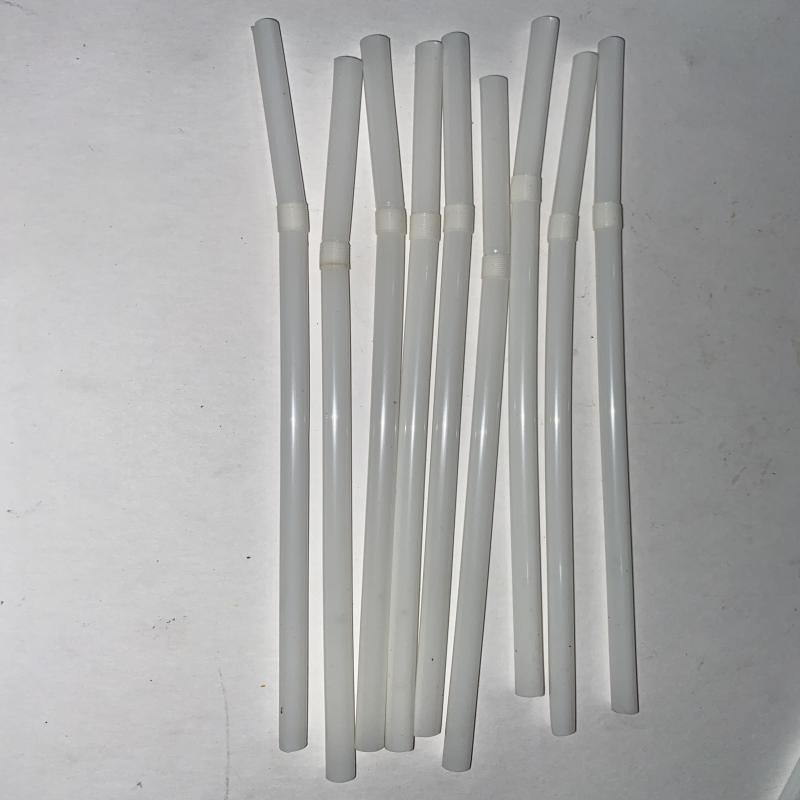plastic straw: (442, 76, 511, 772), (252, 17, 311, 754), (414, 32, 474, 737), (385, 41, 443, 752), (355, 35, 407, 752), (546, 52, 598, 736), (508, 15, 558, 697), (592, 36, 639, 715), (323, 56, 360, 783)
